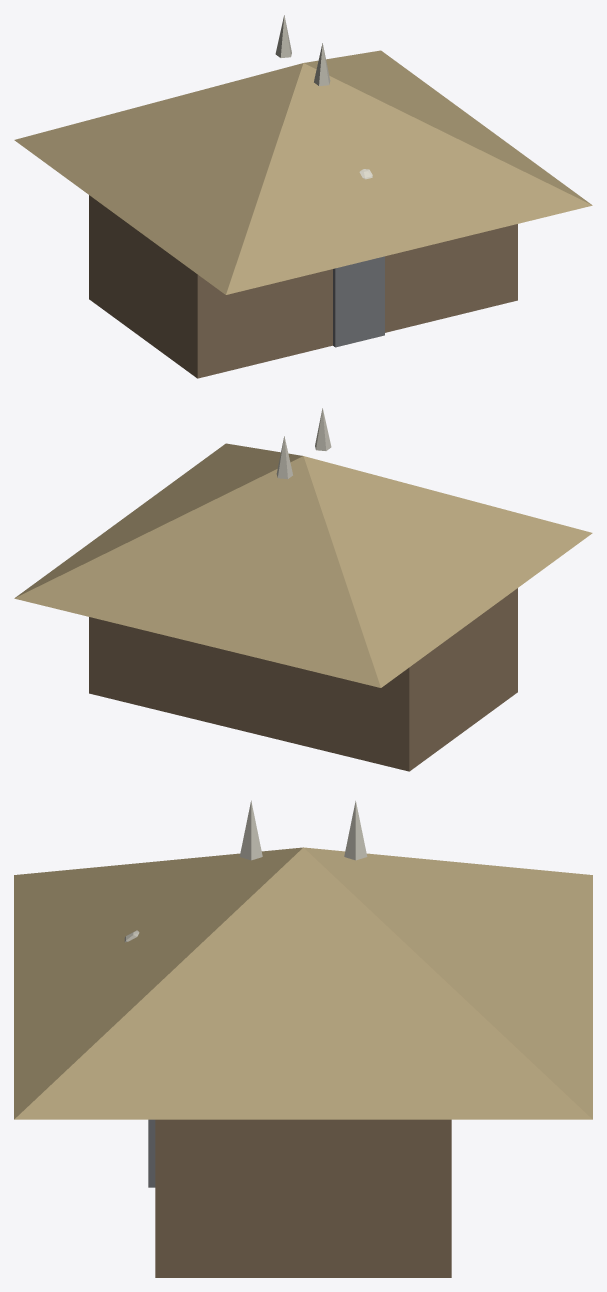
File: longhouse.fbx
3 views of the same model, one above another, from view 1: azimuth 30°, elevation 25°; view 2: azimuth 150°, elevation 25°; view 3: azimuth 270°, elevation 25° (orthographic). The views are drawn at different scales.
Visible parts, largest first — view 1: longhouse; view 2: longhouse; view 3: longhouse.
Boxes of the visible parts, x1=… form: longhouse: x1=14, y1=15, x2=592, y2=378; longhouse: x1=14, y1=408, x2=592, y2=771; longhouse: x1=14, y1=800, x2=592, y2=1277.
Bounding box in the file's own units: 665 × 470 × 665.
